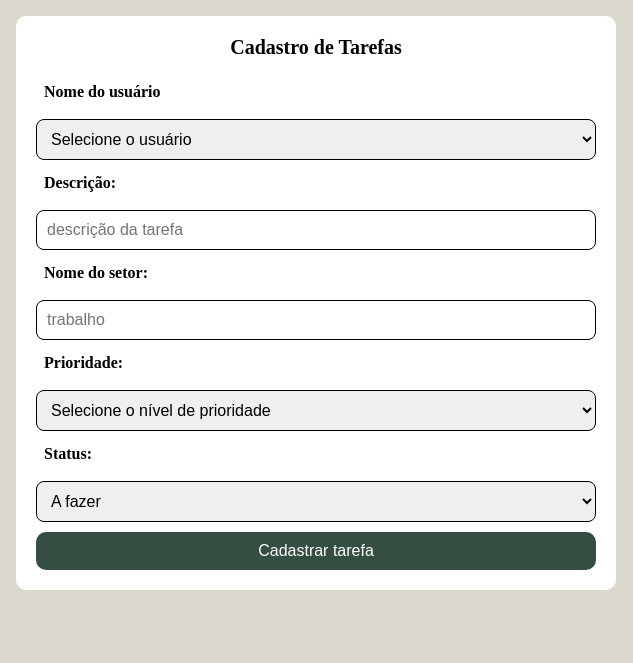
Scenario: Cadastro de Tarefa › deve mostrar erro se a descrição contiver apenas caracteres especiais
Select "1" in the dropdown labelled "Nome do usuário" at (316, 140), box [36,119,596,160]
Type "Financeiro" into the field labelled "Nome do setor:" at (316, 320), box [36,300,596,340]
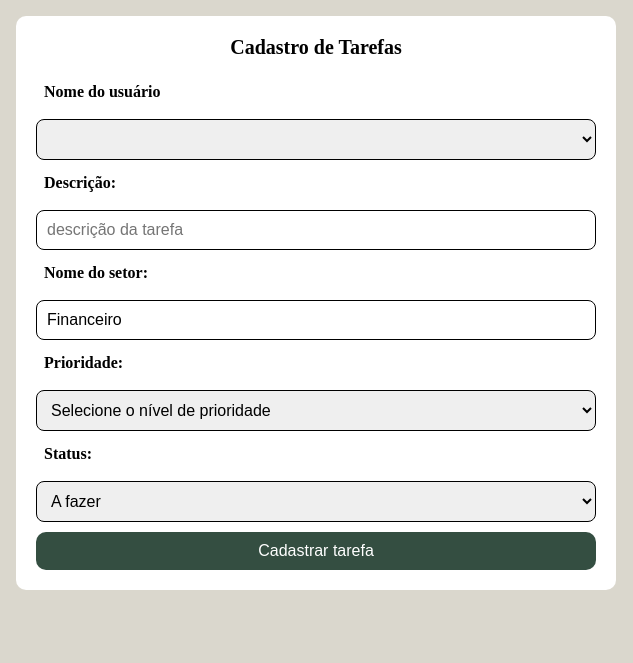
Type "!!!@@@###$$$" into the field labelled "Descrição:" at (316, 230), box [36,210,596,250]
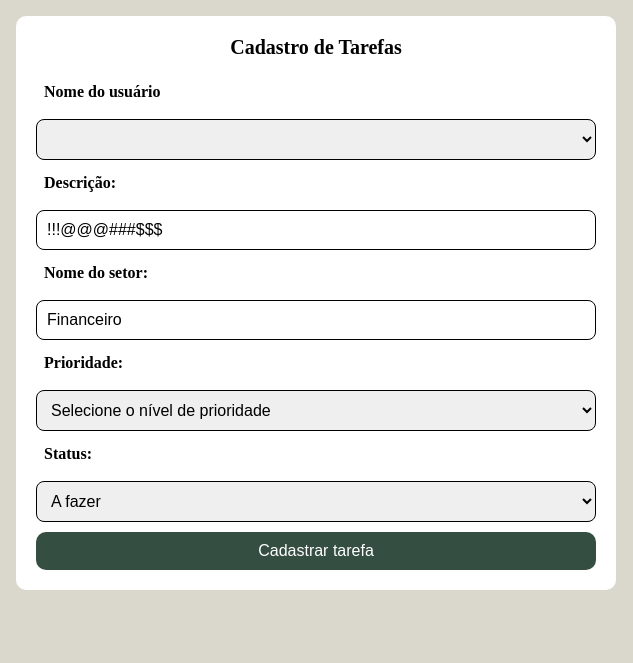
Select "Baixa" in the dropdown labelled "Prioridade:" at (316, 410), box [36,390,596,431]
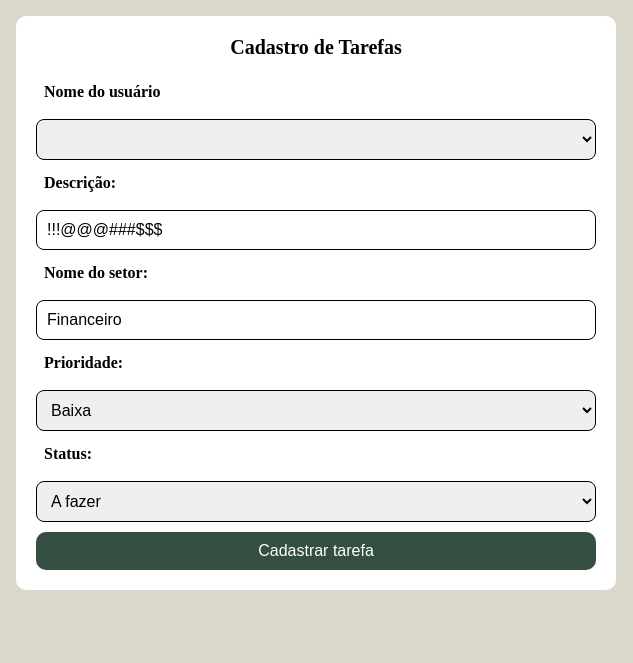
Click the button "Cadastrar tarefa" at (316, 551), box [36,532,596,570]
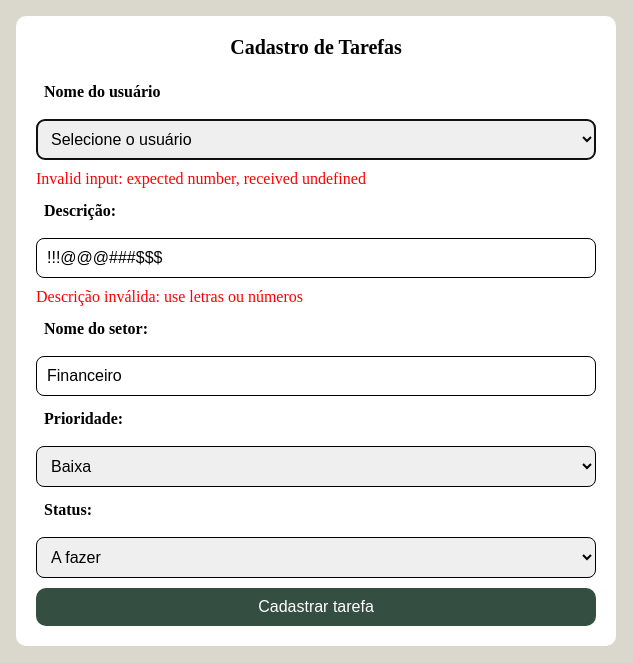
Result: the text "Descrição inválida: use letras ou números" is shown at [36,288,303,305]
